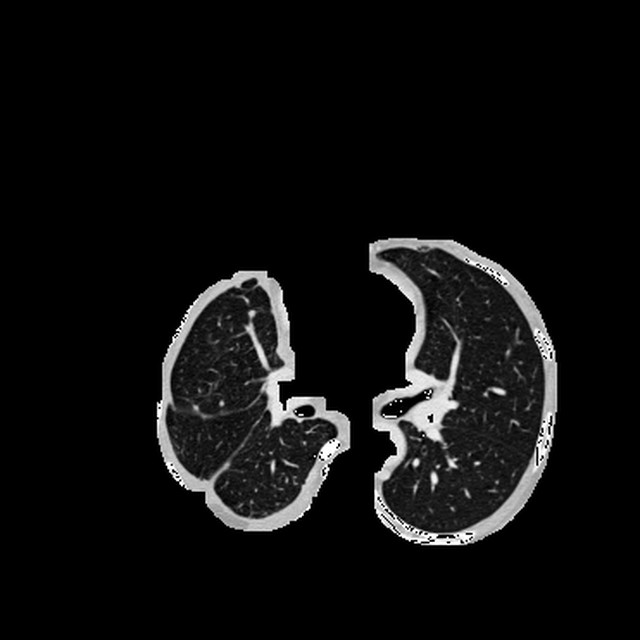PN: (247, 309, 254, 316)
